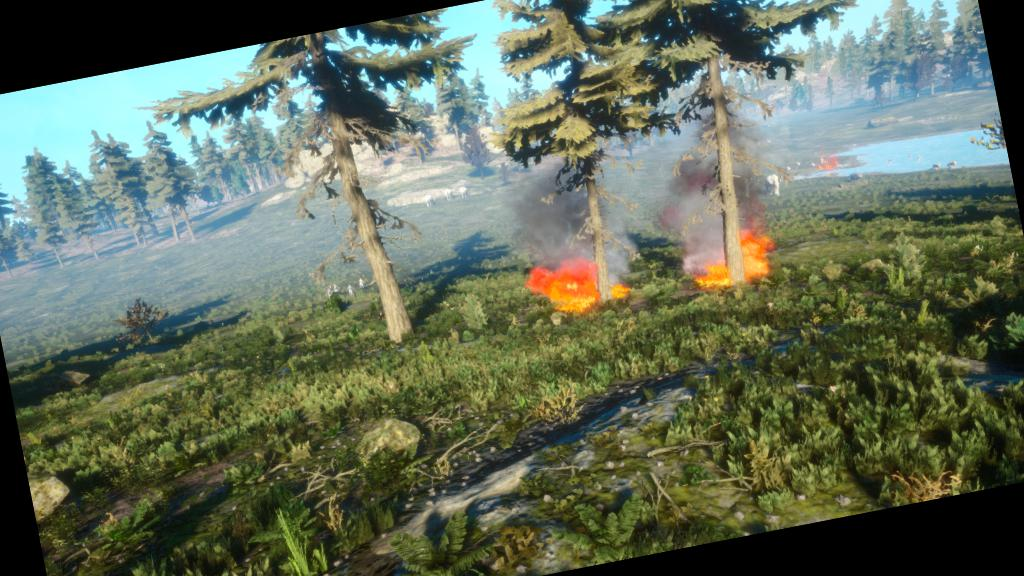Fire: (519, 247, 633, 323), (683, 227, 783, 297)
elephant: (760, 170, 786, 200), (418, 191, 438, 211), (438, 186, 456, 207), (456, 184, 472, 202)
human: (342, 281, 357, 300), (321, 283, 335, 302), (355, 276, 369, 292)
smoke: (492, 101, 635, 290), (646, 106, 793, 272)
